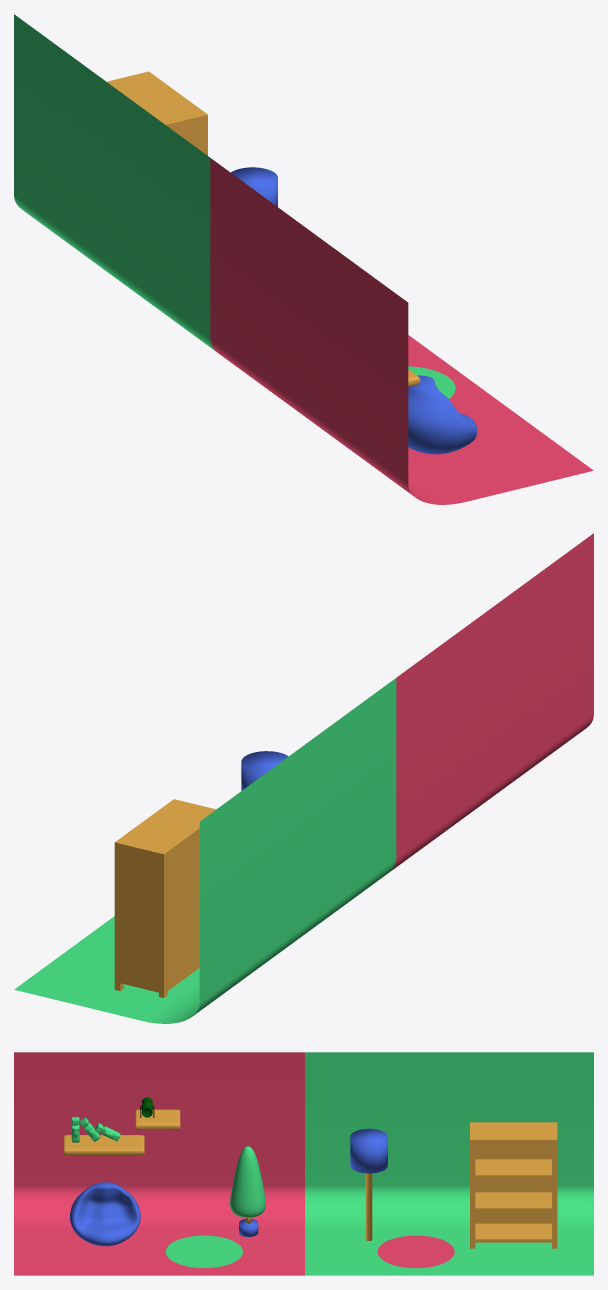
The model's file is Ready UI.fbx.
3 views of the same model, one above another, from view 1: azimuth 30°, elevation 25°; view 2: azimuth 150°, elevation 25°; view 3: azimuth 270°, elevation 25° (orthographic). The views are drawn at different scales.
Visible parts, largest first — view 1: Plane, Sphere, Cube, Circle.001; view 2: Plane, Cube, Circle.001; view 3: Plane, Cube, Sphere, Circle.001, Circle.002, Circle, Cube.008, Cube.009, Cube.010, Cylinder.008.
Boxes of the visible parts, x1=… form: Plane: x1=14, y1=14, x2=593, y2=504; Sphere: x1=408, y1=375, x2=477, y2=454; Cube: x1=107, y1=71, x2=207, y2=155; Circle.001: x1=231, y1=167, x2=277, y2=206; Plane: x1=14, y1=533, x2=593, y2=1023; Cube: x1=114, y1=799, x2=215, y2=997; Circle.001: x1=241, y1=751, x2=288, y2=790; Plane: x1=14, y1=1052, x2=593, y2=1275; Cube: x1=470, y1=1122, x2=557, y2=1248; Sphere: x1=70, y1=1182, x2=140, y2=1246; Circle.001: x1=350, y1=1128, x2=387, y2=1240; Circle.002: x1=165, y1=1235, x2=242, y2=1268; Circle: x1=377, y1=1235, x2=454, y2=1268; Cube.008: x1=230, y1=1146, x2=265, y2=1217; Cube.009: x1=63, y1=1135, x2=144, y2=1155; Cube.010: x1=135, y1=1109, x2=180, y2=1129; Cylinder.008: x1=239, y1=1219, x2=258, y2=1236.
Size of the model in its own units: 272 by 300 by 1000.
